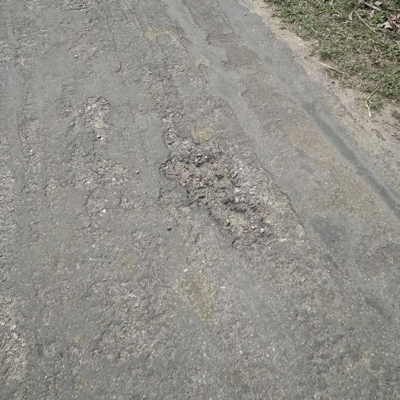pothole: (158, 152, 270, 247), (82, 95, 113, 140)
